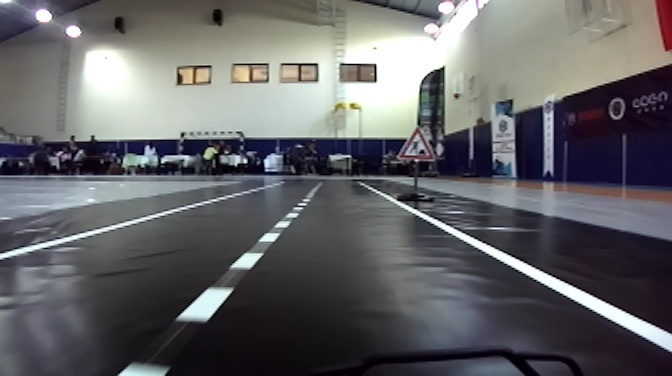yol_yapimi: (394, 127, 438, 167)
